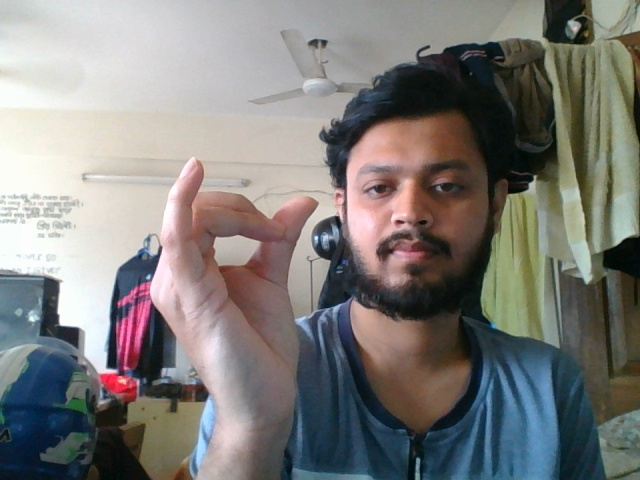oi: (147, 156, 328, 433)
